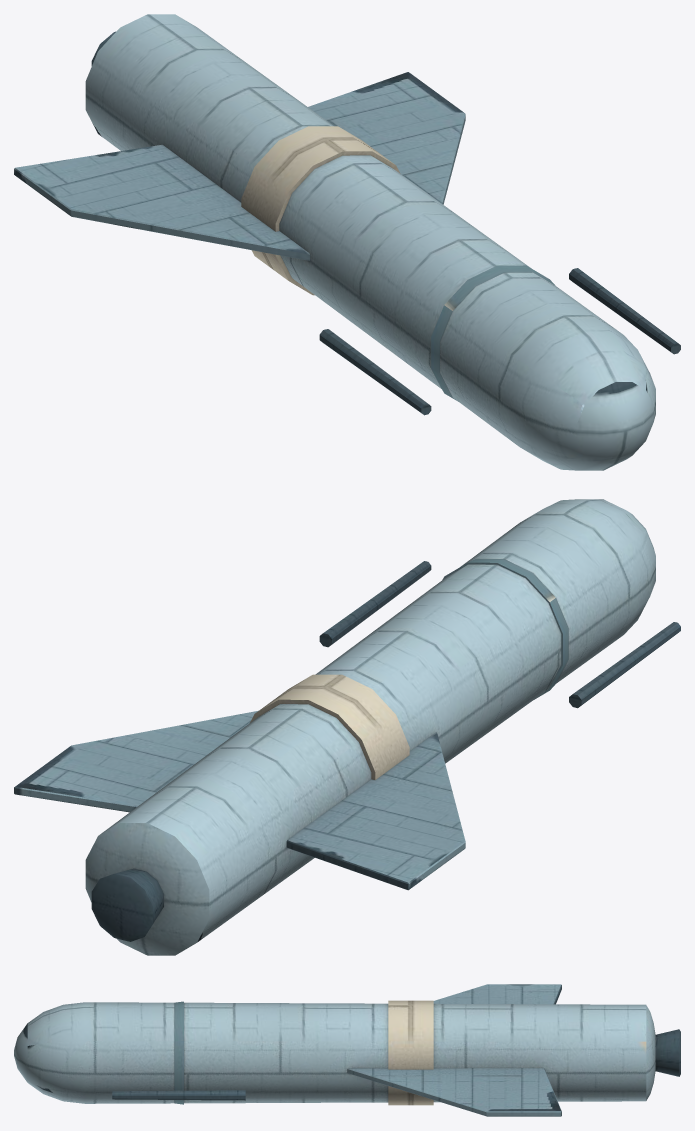
The model's file is pell_craft.glb.
3 renders of one model, top to bottom at view 1: azimuth 30°, elevation 25°; view 2: azimuth 150°, elevation 25°; view 3: azimuth 270°, elevation 25°, orthographic. The views are drawn at different scales.
Parts seen in each view (by area): view 1: HULL, SYS_REACTOR, SYS_WPN1; view 2: HULL, SYS_REACTOR, SYS_DRIVE, SYS_WPN1; view 3: HULL, SYS_REACTOR, SYS_WPN1, SYS_DRIVE.
Boxes of the visible parts, <box> form: HULL: <box>14,14,655,470</box>; SYS_REACTOR: <box>241,126,400,295</box>; SYS_WPN1: <box>319,268,680,415</box>; HULL: <box>14,499,655,955</box>; SYS_REACTOR: <box>250,674,409,779</box>; SYS_DRIVE: <box>91,868,163,941</box>; SYS_WPN1: <box>319,561,680,708</box>; HULL: <box>14,984,655,1116</box>; SYS_REACTOR: <box>388,1000,433,1105</box>; SYS_WPN1: <box>112,1090,245,1100</box>; SYS_DRIVE: <box>655,1029,680,1076</box>.
Size of the model in its own units: 2.11 by 0.7318 by 4.66.
1 material, 1 textured.
